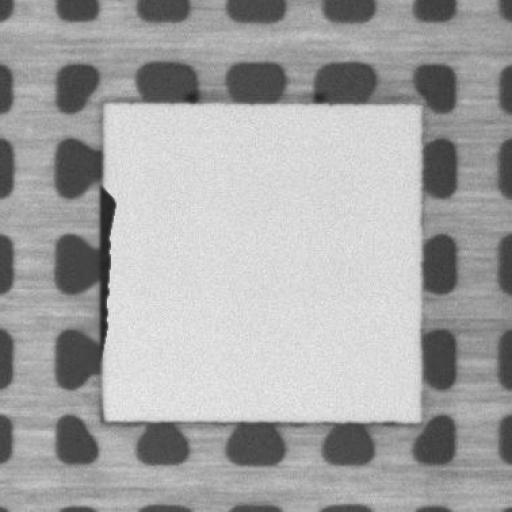DIE_BROKEN: (94, 183, 118, 368)
